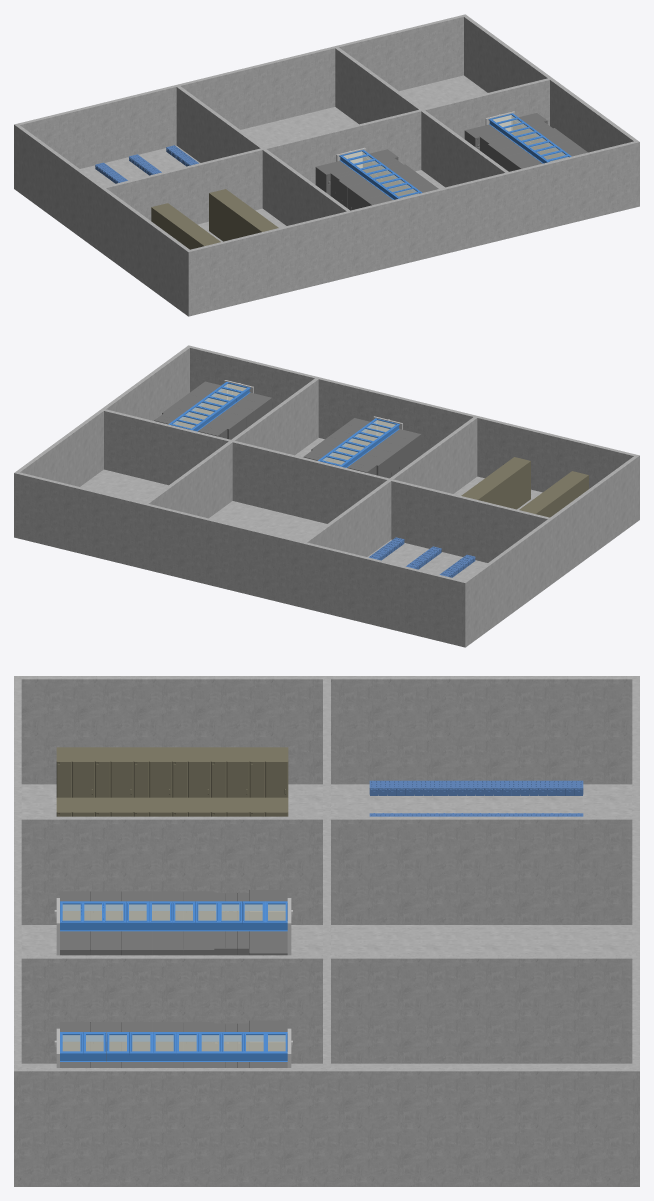
File: level4.glb
3 views of the same model, one above another, from view 1: azimuth 30°, elevation 25°; view 2: azimuth 150°, elevation 25°; view 3: azimuth 270°, elevation 25° (orthographic). The views are drawn at different scales.
Parts seen in each view (by area): view 1: 基本墙 常规 - 200mm [738018], 基本墙 常规 - 200mm [738016], 基本墙 常规 - 200mm [738316], 基本墙 常规 - 200mm [738017], 楼板 常规 - 300mm [738371], 基本墙 常规 - 200mm [738101], 基本墙 常规 - 200mm [738182], 基本墙 常规 - 200mm [738019], EXL 300kVA EXL 300kVA [775413], EXL 300kVA EXL 300kVA [775412], P1040(双压缩机）DAW PEX+ 风冷标准机型（R22_ad63937, EXL 300kVA EXL 300kVA [775414]; view 2: 基本墙 常规 - 200mm [738016], 基本墙 常规 - 200mm [738316], 基本墙 常规 - 200mm [738018], 基本墙 常规 - 200mm [738017], 楼板 常规 - 300mm [738371], 基本墙 常规 - 200mm [738101], 基本墙 常规 - 200mm [738182], 基本墙 常规 - 200mm [738019], EXL 300kVA EXL 300kVA [775416], EXL 300kVA EXL 300kVA [775417], EXL 300kVA EXL 300kVA [775415]; view 3: 基本墙 常规 - 200mm [738019], 基本墙 常规 - 200mm [738101], 基本墙 常规 - 200mm [738017], 基本墙 常规 - 200mm [738182], 楼板 常规 - 300mm [738371], 基本墙 常规 - 200mm [738018], 基本墙 常规 - 200mm [738016], 基本墙 常规 - 200mm [738316], EXL 300kVA EXL 300kVA [774703], EXL 300kVA EXL 300kVA [775348], EXL 300kVA EXL 300kVA [775316], EXL 300kVA EXL 300kVA [775331] (+32 smaller).
Boxes of the visible parts, x1,y1,x2,y2 form: 基本墙 常规 - 200mm [738018]: [190, 140, 639, 309]; 基本墙 常规 - 200mm [738016]: [14, 15, 463, 184]; 基本墙 常规 - 200mm [738316]: [104, 78, 549, 224]; 基本墙 常规 - 200mm [738017]: [16, 125, 192, 310]; 楼板 常规 - 300mm [738371]: [14, 75, 639, 316]; 基本墙 常规 - 200mm [738101]: [176, 86, 349, 225]; 基本墙 常规 - 200mm [738182]: [335, 47, 508, 187]; 基本墙 常规 - 200mm [738019]: [462, 14, 637, 152]; EXL 300kVA EXL 300kVA [775413]: [219, 197, 246, 241]; EXL 300kVA EXL 300kVA [775412]: [209, 189, 235, 238]; P1040(双压缩机）DAW PEX+ 风冷标准机型（R22_ad63937: [315, 161, 349, 195]; EXL 300kVA EXL 300kVA [775414]: [230, 205, 257, 239]; 基本墙 常规 - 200mm [738016]: [17, 472, 467, 641]; 基本墙 常规 - 200mm [738316]: [104, 409, 549, 562]; 基本墙 常规 - 200mm [738018]: [186, 345, 635, 492]; 基本墙 常规 - 200mm [738017]: [464, 454, 639, 639]; 楼板 常规 - 300mm [738371]: [14, 438, 639, 647]; 基本墙 常规 - 200mm [738101]: [304, 417, 477, 556]; 基本墙 常规 - 200mm [738182]: [145, 378, 318, 518]; 基本墙 常规 - 200mm [738019]: [14, 347, 189, 532]; EXL 300kVA EXL 300kVA [775416]: [493, 465, 520, 509]; EXL 300kVA EXL 300kVA [775417]: [504, 457, 530, 506]; EXL 300kVA EXL 300kVA [775415]: [482, 473, 509, 507]; 基本墙 常规 - 200mm [738019]: [21, 1068, 639, 1176]; 基本墙 常规 - 200mm [738101]: [21, 816, 632, 924]; 基本墙 常规 - 200mm [738017]: [14, 676, 632, 784]; 基本墙 常规 - 200mm [738182]: [21, 955, 632, 1063]; 楼板 常规 - 300mm [738371]: [14, 784, 639, 1186]; 基本墙 常规 - 200mm [738018]: [14, 679, 21, 1176]; 基本墙 常规 - 200mm [738016]: [632, 676, 639, 1067]; 基本墙 常规 - 200mm [738316]: [323, 679, 330, 1067]; EXL 300kVA EXL 300kVA [774703]: [249, 747, 288, 797]; EXL 300kVA EXL 300kVA [775348]: [133, 747, 172, 797]; EXL 300kVA EXL 300kVA [775316]: [211, 747, 249, 797]; EXL 300kVA EXL 300kVA [775331]: [172, 747, 210, 797].
Bounding box in the file's own units: 24.2 × 3.3 × 16.2.
Materials: 7 (1 with a texture image).
